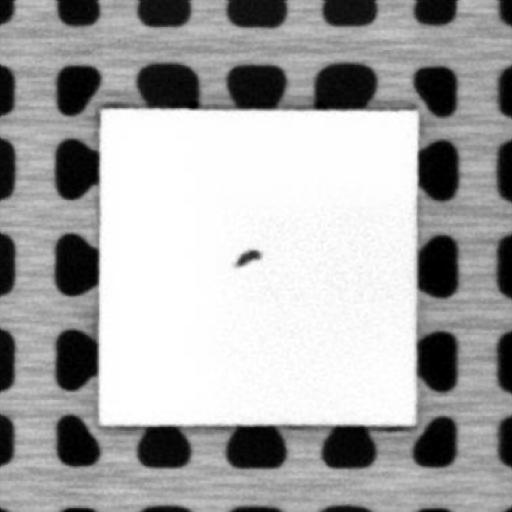DIE_INK: (232, 246, 262, 265)
